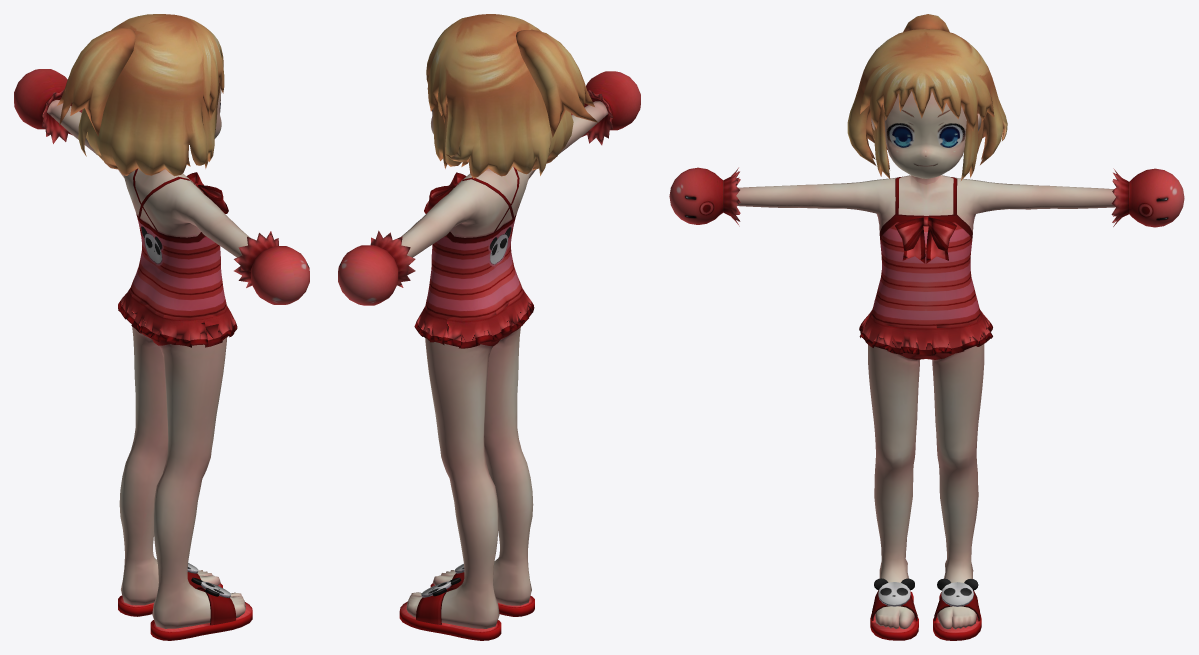
File: girl.gltf
3 renders of one model, left to right at view 1: azimuth 30°, elevation 25°; view 2: azimuth 150°, elevation 25°; view 3: azimuth 270°, elevation 25°, orthographic. The views are drawn at different scales.
Visible parts, largest first — view 1: MilkshapeExported1; view 2: MilkshapeExported1; view 3: MilkshapeExported1.
Part boxes in pixels (bbox=[...]): MilkshapeExported1: bbox=[14, 14, 309, 640]; MilkshapeExported1: bbox=[338, 14, 640, 640]; MilkshapeExported1: bbox=[669, 14, 1184, 640].
Size of the model in its own units: 0.5127 by 1.65 by 1.35.
1 material, 1 textured.
